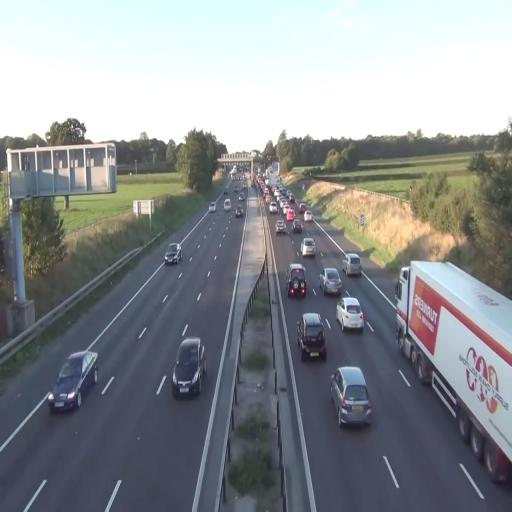vehicle: (394, 259, 512, 486), (49, 348, 99, 412), (330, 365, 372, 427), (172, 338, 206, 399), (297, 311, 328, 362), (336, 295, 365, 332), (286, 262, 306, 298), (321, 266, 342, 296), (342, 252, 362, 278), (164, 242, 182, 266), (300, 237, 316, 259)
